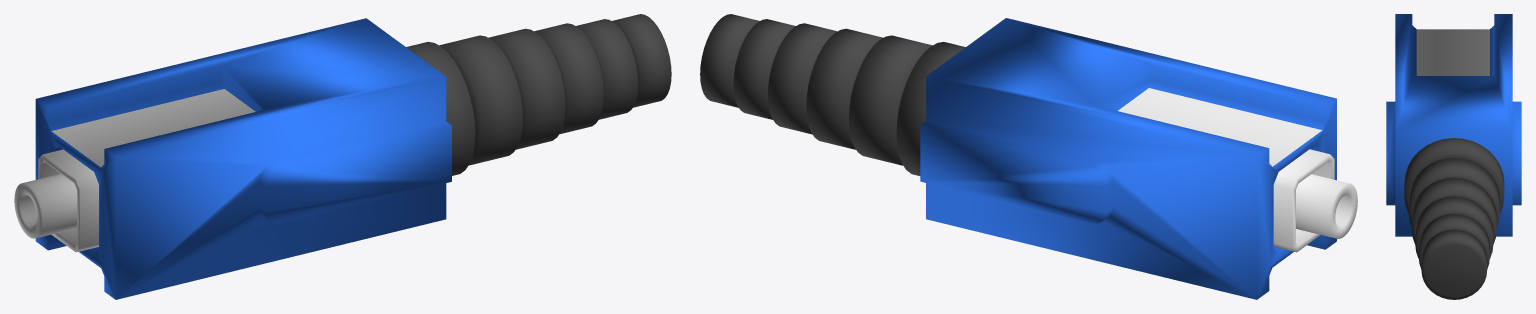
File: Pala.fbx
The picture shows the model from 3 angles, left to right: view 1: azimuth 30°, elevation 25°; view 2: azimuth 150°, elevation 25°; view 3: azimuth 270°, elevation 25°; orthographic projection. The views are drawn at different scales.
Parts seen in each view (by area): view 1: Cylinder.001; view 2: Cylinder.001; view 3: Cylinder.001.
Part boxes in pixels (bbox=[...]): Cylinder.001: bbox=[14, 14, 671, 299]; Cylinder.001: bbox=[700, 14, 1357, 299]; Cylinder.001: bbox=[1386, 14, 1521, 299].
Bounding box in the file's own units: 198 × 43.3 × 50.91.
